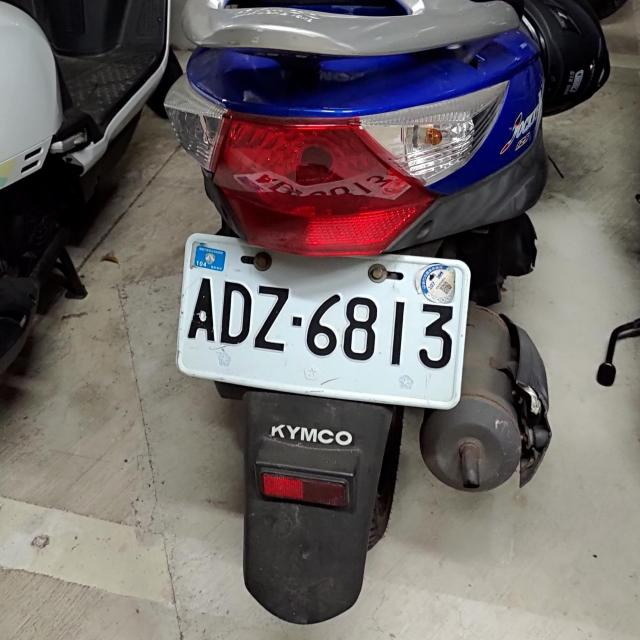W: (167, 226, 478, 412)
